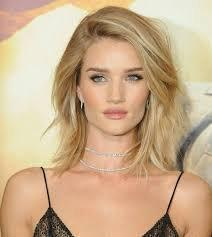Sober: (84, 46, 144, 134)
